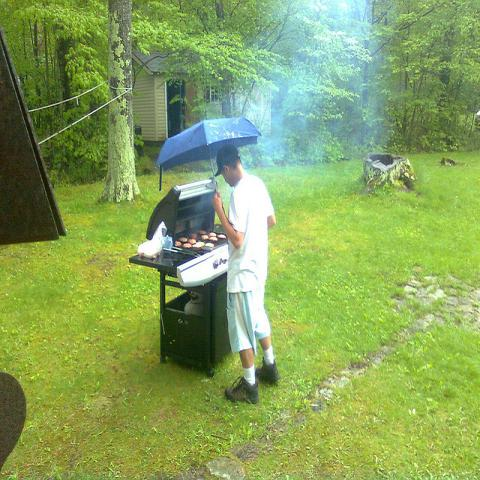car: (472, 109, 479, 130)
